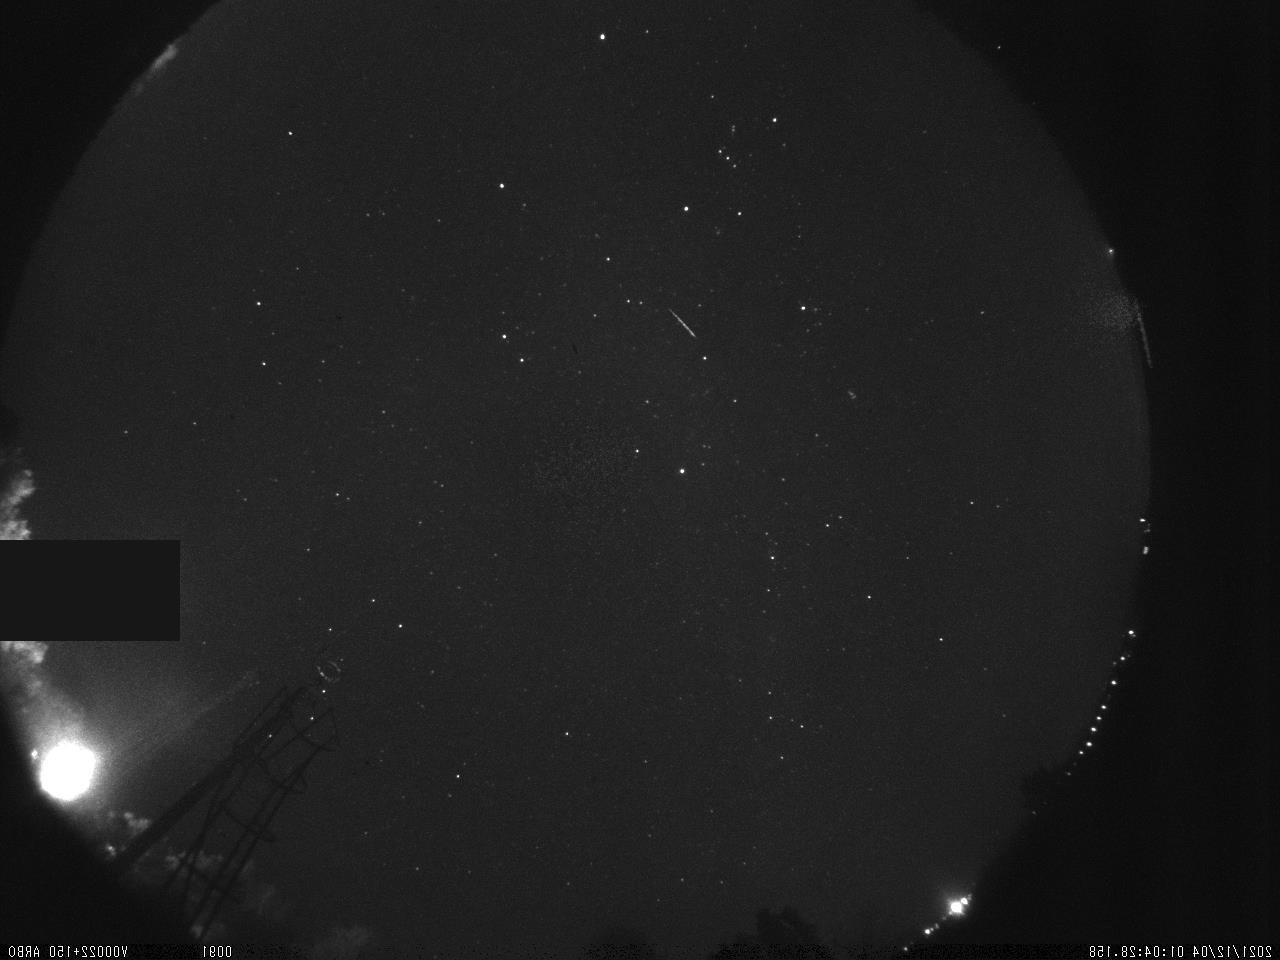meteor: (659, 302, 699, 341)
